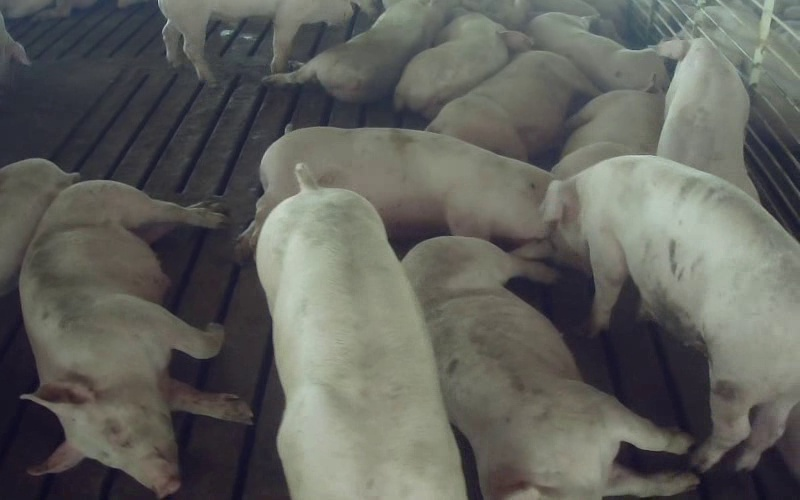pig: (543, 157, 799, 470), (403, 237, 696, 499), (20, 182, 251, 496), (256, 164, 465, 499), (238, 128, 550, 251), (427, 31, 599, 160), (656, 38, 758, 200), (158, 0, 353, 81), (395, 8, 508, 118), (552, 74, 663, 179), (527, 12, 668, 90)
